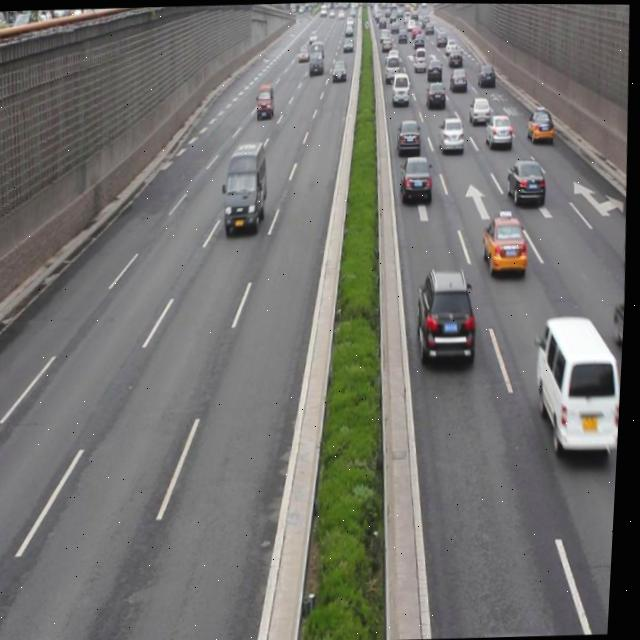car: (417, 266, 482, 369), (483, 210, 529, 277), (505, 156, 546, 207), (400, 155, 433, 202), (437, 115, 464, 155), (484, 112, 514, 146), (526, 107, 553, 142), (397, 119, 421, 155), (467, 95, 491, 124)
truck: (532, 315, 625, 459), (222, 143, 270, 235)
